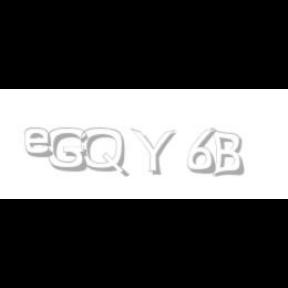6: (188, 128, 216, 176)
B: (210, 128, 244, 178)
G: (48, 128, 88, 172)
Q: (81, 128, 127, 178)
Y: (130, 128, 176, 176)
e: (24, 128, 57, 158)
